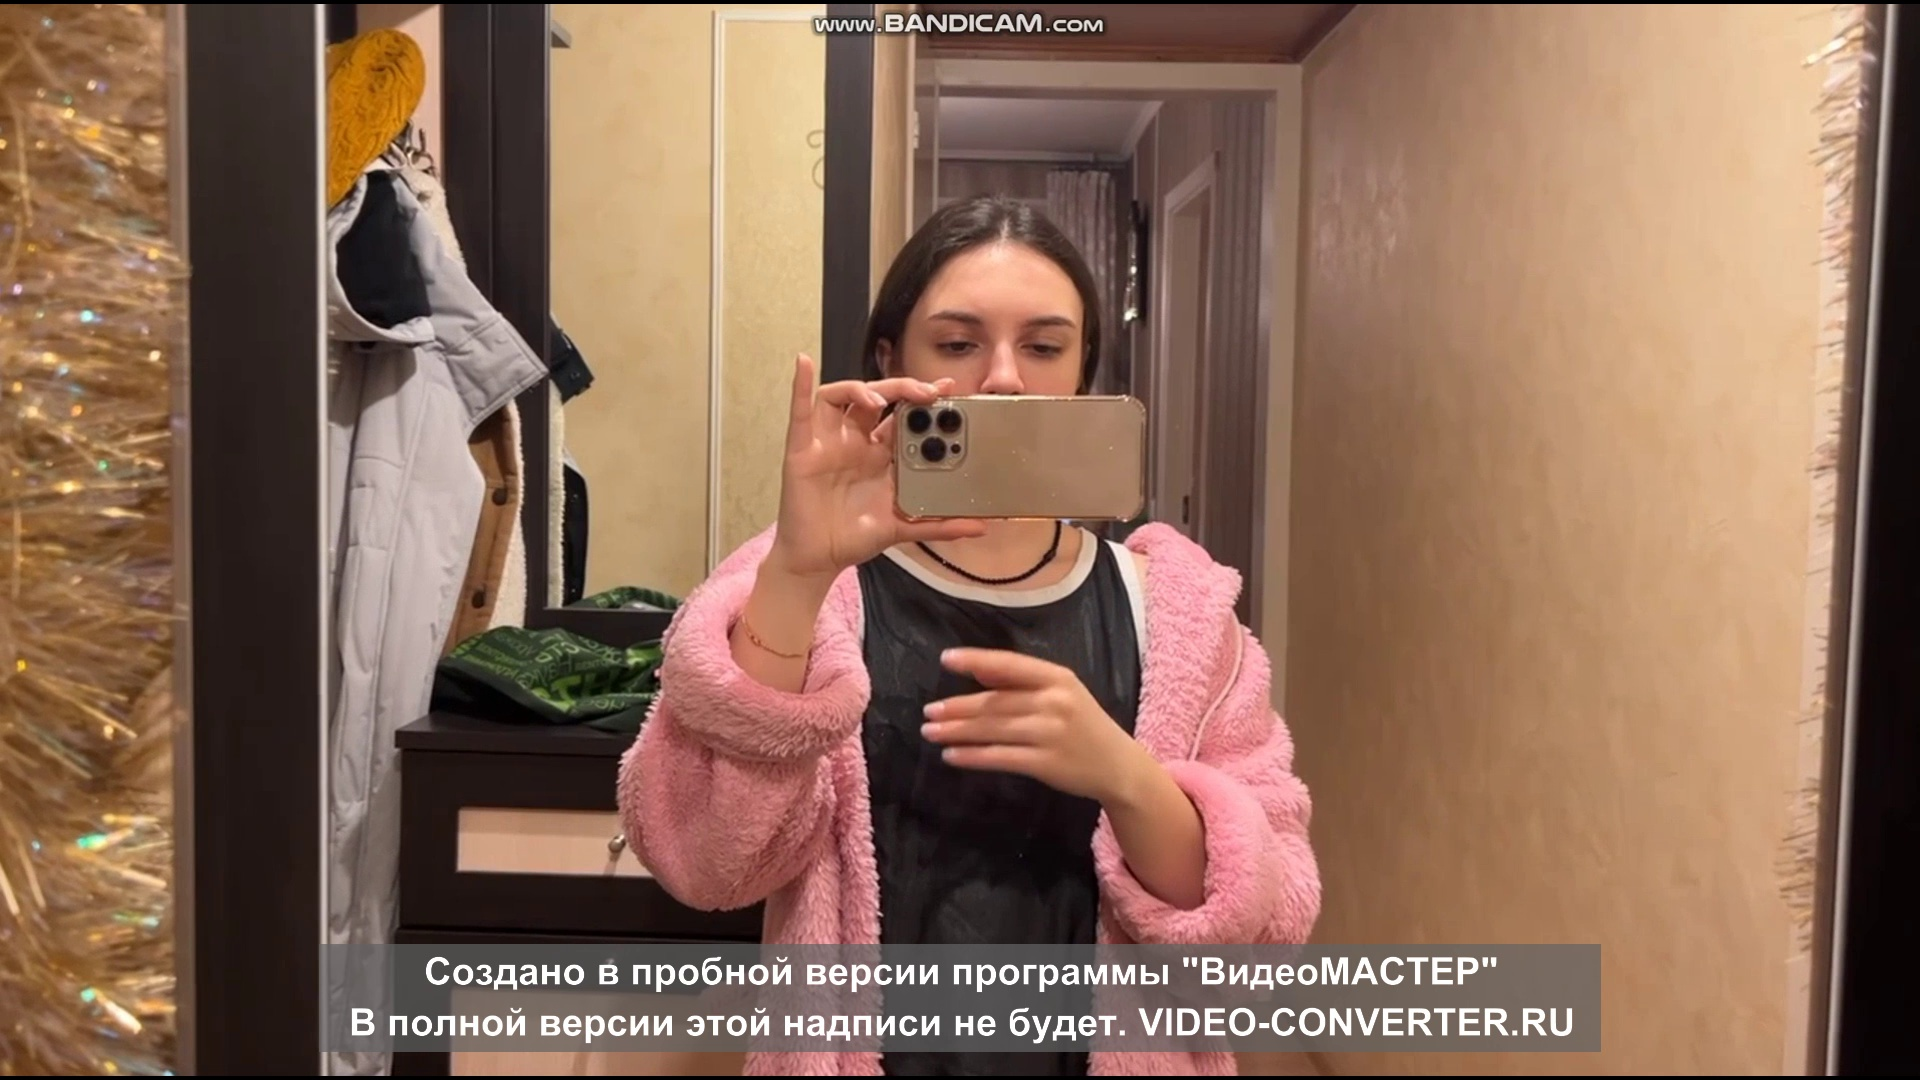Кисть: (919, 642, 1129, 808)
